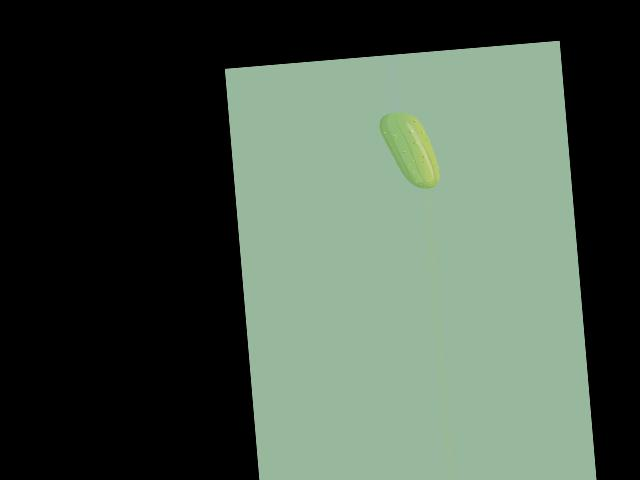cucumber: (378, 109, 440, 192)
